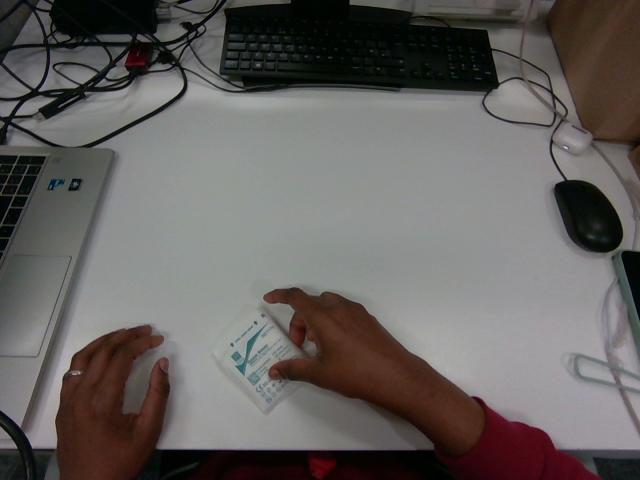gauze: (212, 310, 305, 412)
